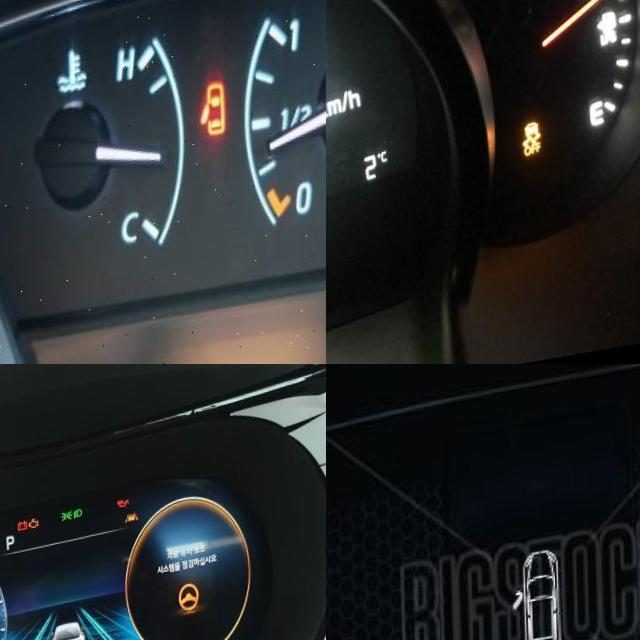LaneCenteringOff: (122, 526, 135, 537)
Low beam: (71, 520, 80, 531)
SideLamp: (58, 520, 71, 534)
